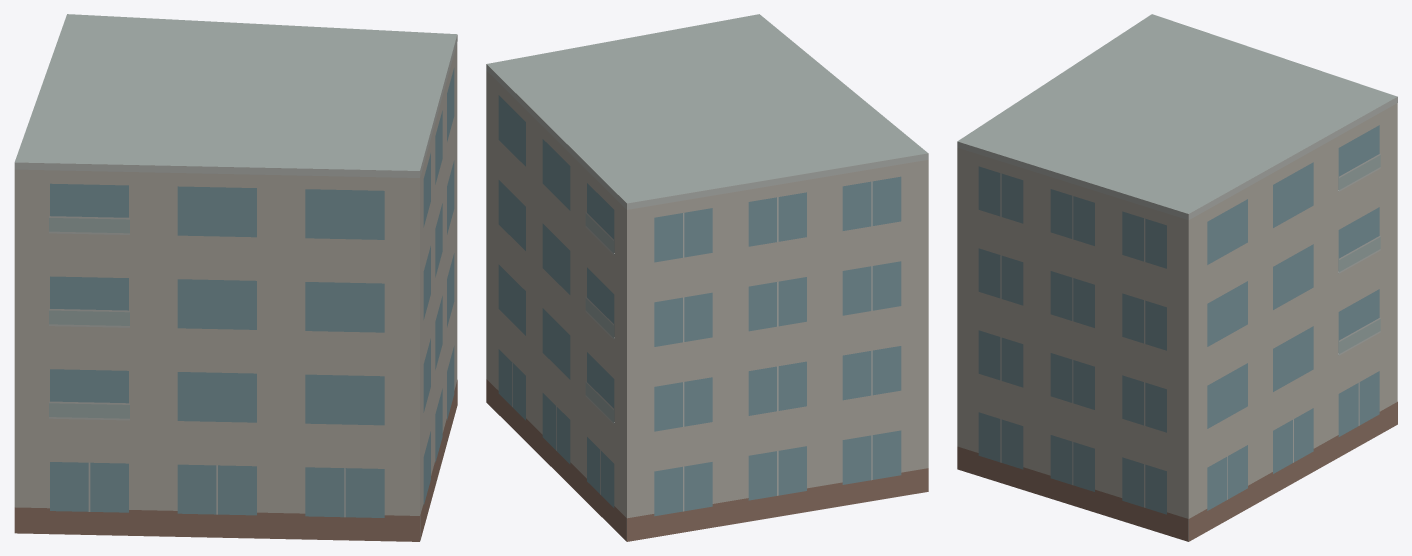
Rendered from survey-upis-32770181.glb.
3 views of the same model, side by side, from view 1: azimuth 30°, elevation 25°; view 2: azimuth 150°, elevation 25°; view 3: azimuth 270°, elevation 25° (orthographic). The views are drawn at different scales.
Parts seen in each view (by area): view 1: survey-upis-32770181.tmp; view 2: survey-upis-32770181.tmp; view 3: survey-upis-32770181.tmp.
Part boxes in pixels (box(x1,y1,x2,y2)): survey-upis-32770181.tmp: box(14, 14, 457, 541); survey-upis-32770181.tmp: box(486, 14, 928, 541); survey-upis-32770181.tmp: box(957, 14, 1397, 541).
Size of the model in its own units: 16.84 by 12.86 by 15.67.
